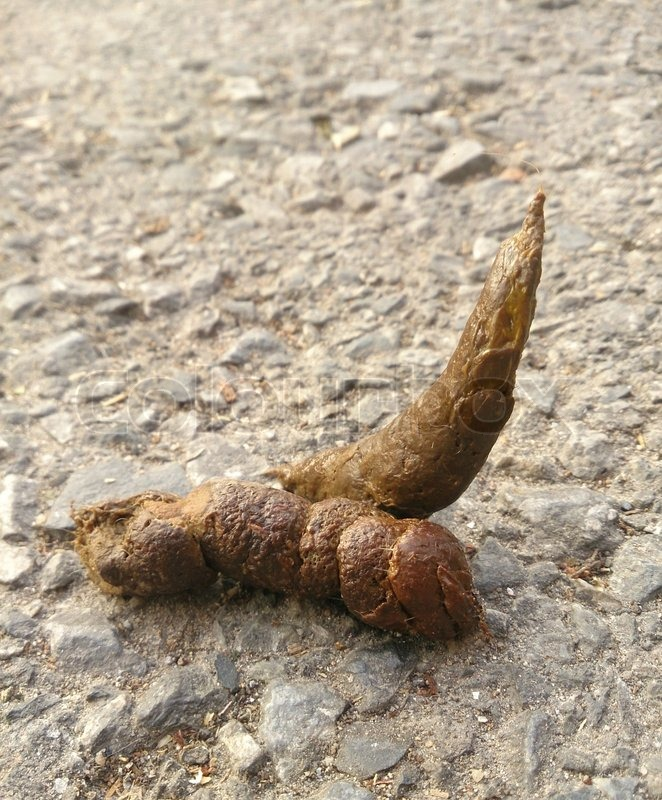Dog: (80, 203, 541, 637)
